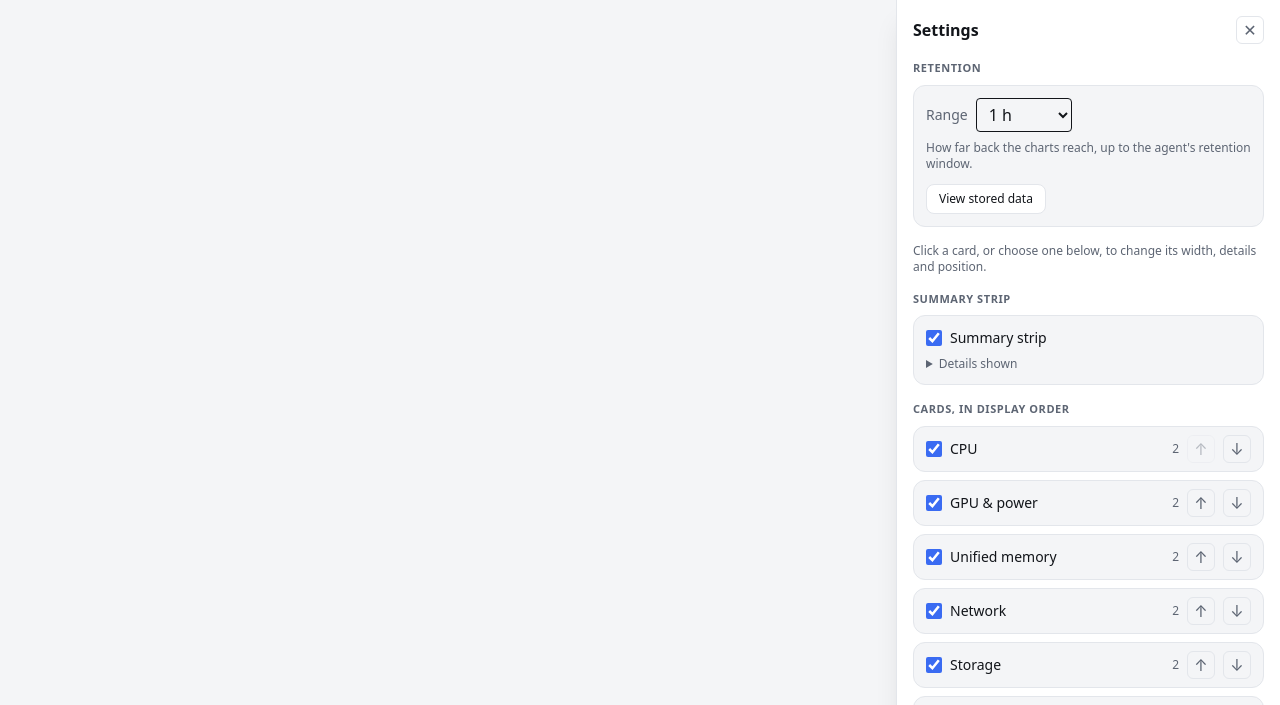
Test: retention › shows stored data when View stored data is clicked
What coordinates should you click on to do the following:
click the button "View stored data"
I would click on:
 (986, 198)
Its box is [926,184,1046,214].
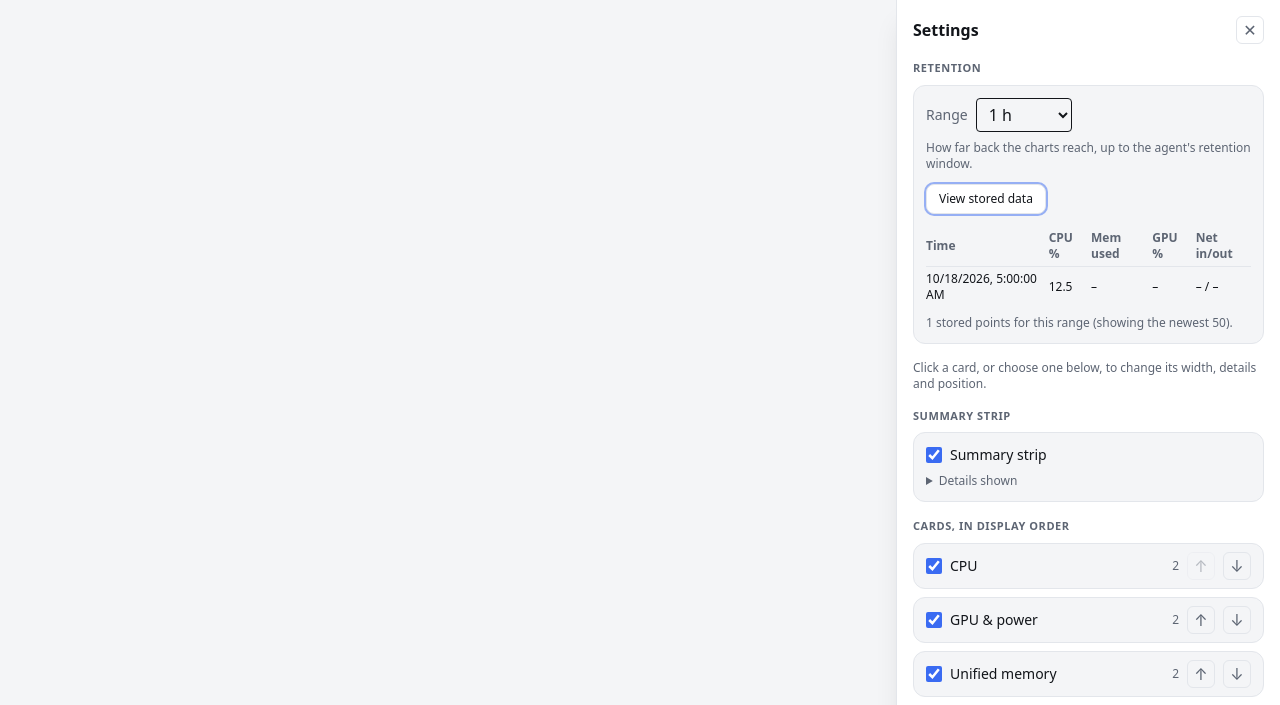
Expected: the table is shown, [926,226,1251,306]
Expected: the text "1 stored points for this range (showing the newest 50)." is shown, [926,314,1251,330]
